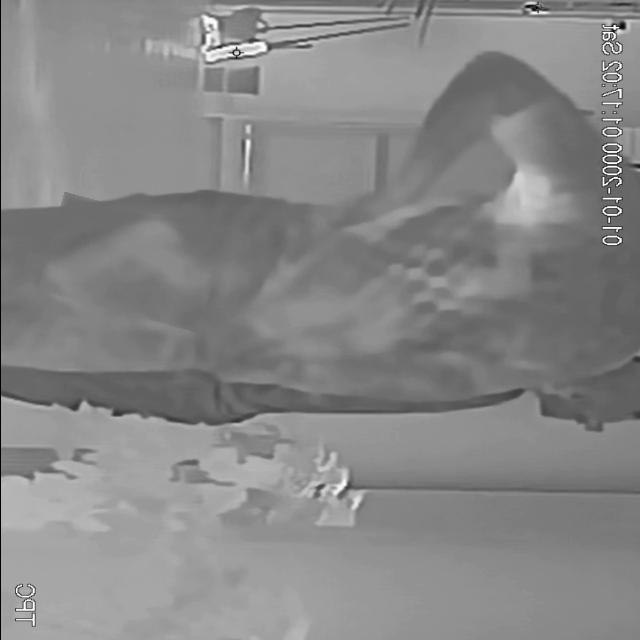Weapon: (43, 202, 220, 324)
